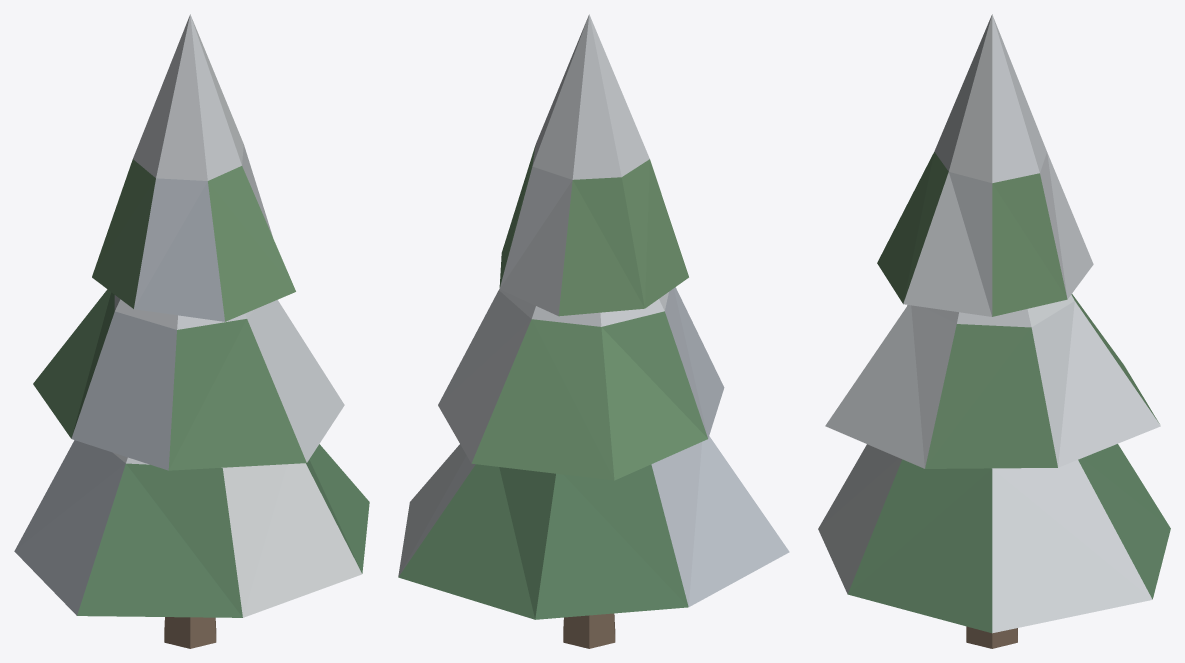
Rendered from spruce_snowy.glb.
3 views of the same model, side by side, from view 1: azimuth 30°, elevation 25°; view 2: azimuth 150°, elevation 25°; view 3: azimuth 270°, elevation 25° (orthographic).
Visible parts, largest first — view 1: spruce_snowy; view 2: spruce_snowy; view 3: spruce_snowy.
Boxes of the visible parts, x1=… form: spruce_snowy: x1=14, y1=14, x2=369, y2=648; spruce_snowy: x1=398, y1=14, x2=789, y2=648; spruce_snowy: x1=818, y1=14, x2=1170, y2=648.
Bounding box in the file's own units: 3.11 × 5.5 × 2.83.
